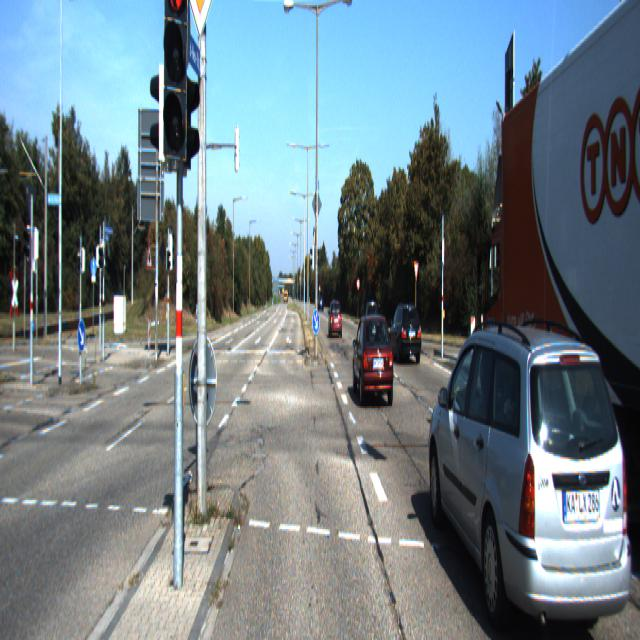Car: (476, 0, 640, 570), (428, 317, 638, 638), (353, 312, 394, 411), (388, 301, 422, 366), (361, 299, 380, 341), (328, 300, 342, 338)
